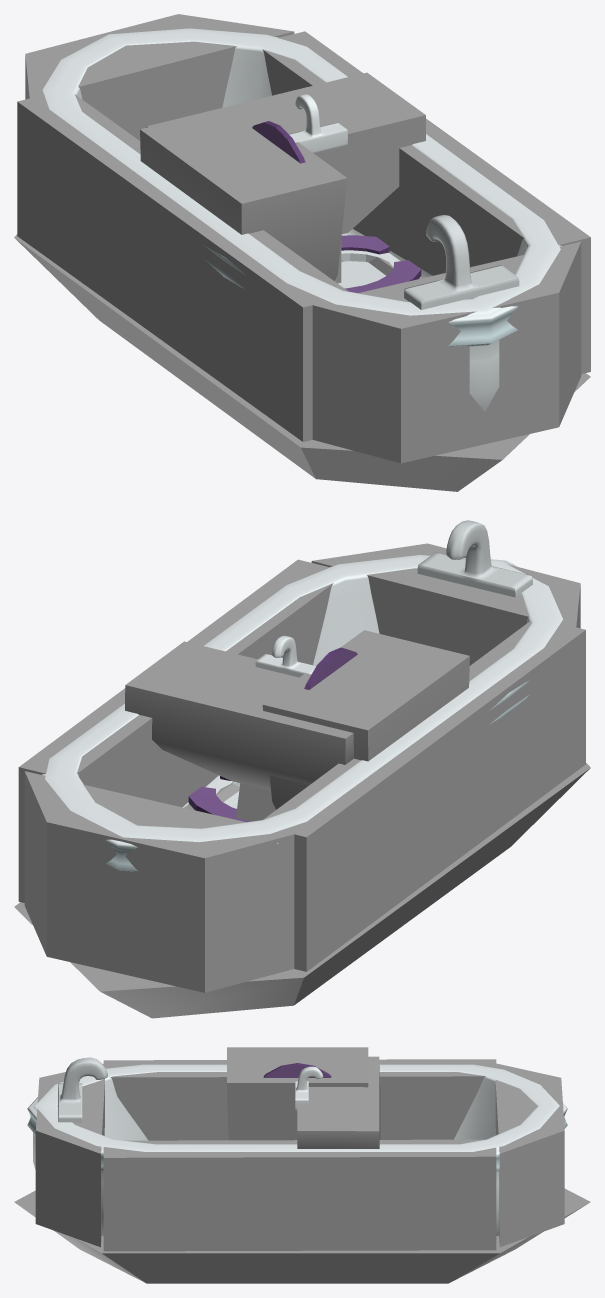
Rendered from Banyo_Malzeme.fbx.
3 views of the same model, one above another, from view 1: azimuth 30°, elevation 25°; view 2: azimuth 150°, elevation 25°; view 3: azimuth 270°, elevation 25° (orthographic). The views are drawn at different scales.
Parts seen in each view (by area): view 1: pCube11, pCube14, kuvet, pCube9, pCube12, pCube13, pCube10, pCube16, klozet1, lavabo1; view 2: pCube11, pCube13, kuvet, pCube16, pCube12, pCube9, pCube10, pCube14, klozet1, lavabo1, pCube15; view 3: pCube12, pCube11, kuvet, pCube10, pCube13, pCube9, pCube14, pCube16, lavabo1, klozet1.
Boxes of the visible parts, bbox=[...] form: pCube11: bbox=[17, 94, 348, 441]; pCube14: bbox=[310, 241, 581, 463]; kuvet: bbox=[28, 28, 561, 411]; pCube9: bbox=[140, 103, 347, 280]; pCube12: bbox=[262, 31, 590, 373]; pCube13: bbox=[25, 14, 294, 140]; pCube10: bbox=[14, 234, 590, 491]; pCube16: bbox=[146, 72, 425, 234]; klozet1: bbox=[252, 121, 421, 292]; lavabo1: bbox=[289, 94, 347, 281]; pCube11: bbox=[263, 621, 585, 971]; pCube13: bbox=[24, 771, 294, 992]; kuvet: bbox=[42, 520, 562, 871]; pCube16: bbox=[125, 641, 353, 790]; pCube12: bbox=[18, 559, 333, 902]; pCube9: bbox=[262, 630, 469, 809]; pCube10: bbox=[14, 763, 590, 1018]; pCube14: bbox=[311, 543, 580, 665]; klozet1: bbox=[188, 647, 357, 822]; lavabo1: bbox=[255, 635, 315, 677]; pCube15: bbox=[236, 783, 275, 821]; pCube12: bbox=[103, 1139, 496, 1251]; pCube11: bbox=[103, 1059, 496, 1140]; kuvet: bbox=[27, 1057, 567, 1236]; pCube10: bbox=[14, 1188, 590, 1283]; pCube13: bbox=[495, 1063, 564, 1246]; pCube9: bbox=[227, 1047, 368, 1140]; pCube14: bbox=[35, 1063, 104, 1247]; pCube16: bbox=[297, 1056, 380, 1148]; lavabo1: bbox=[295, 1066, 323, 1110]; klozet1: bbox=[263, 1063, 331, 1077].
Size of the model in its own units: 5.12 by 4.55 by 12.64.
